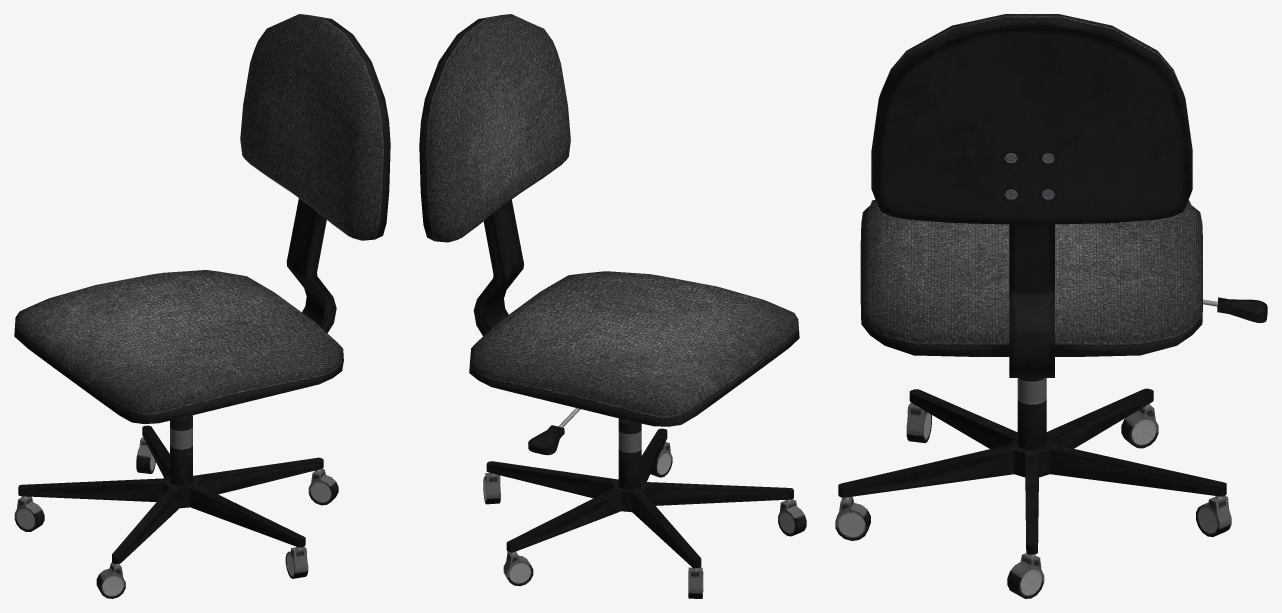
Rendered from HH_Office_Chair_Rolling.fbx.
3 renders of one model, left to right at view 1: azimuth 30°, elevation 25°; view 2: azimuth 150°, elevation 25°; view 3: azimuth 270°, elevation 25°, orthographic. The views are drawn at different scales.
Parts seen in each view (by area): view 1: HH_Office_Chair_Rolling_LOD0; view 2: HH_Office_Chair_Rolling_LOD0; view 3: HH_Office_Chair_Rolling_LOD0.
Boxes of the visible parts, x1,y1,x2,y2 form: HH_Office_Chair_Rolling_LOD0: (14, 14, 390, 598); HH_Office_Chair_Rolling_LOD0: (419, 14, 806, 598); HH_Office_Chair_Rolling_LOD0: (835, 14, 1267, 598).
Size of what is drawn, in the model's own units: 70.63 by 110 by 73.38.
